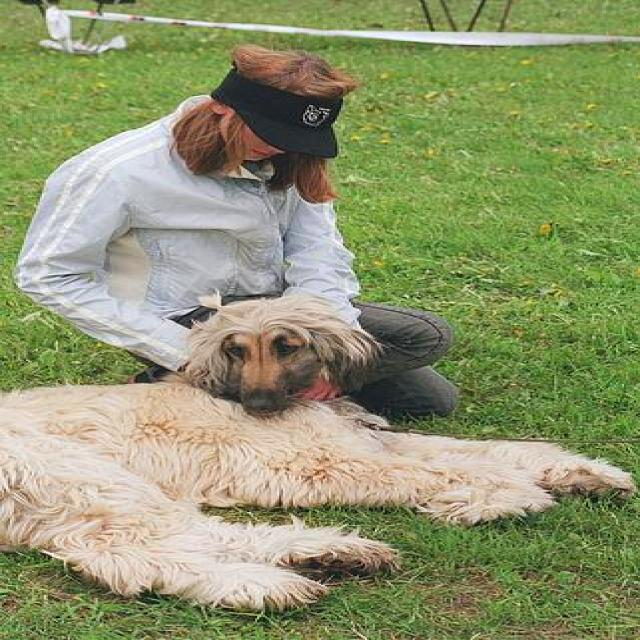afghan_hound: (0, 298, 636, 616)
